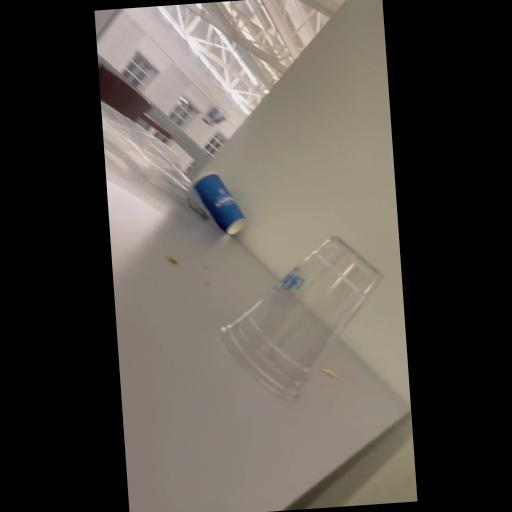lp_plastic_cup: (215, 233, 386, 405)
